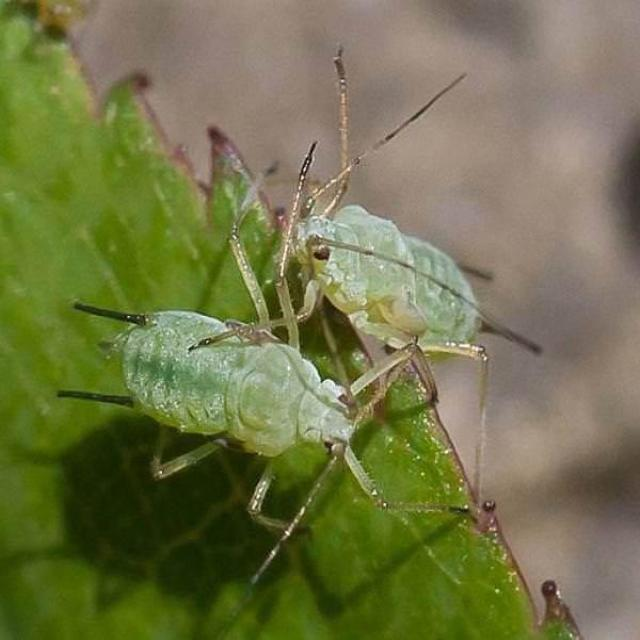Aphids: (58, 279, 477, 558), (207, 142, 532, 378)
